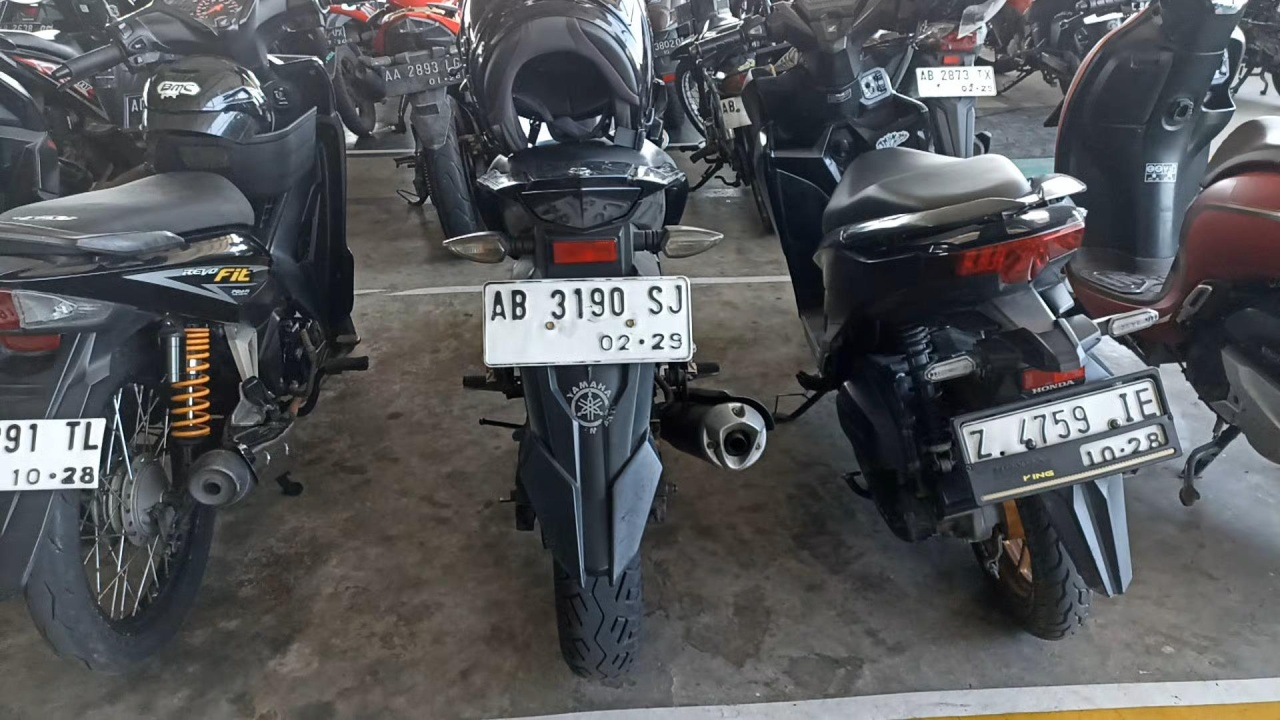plate: (958, 372, 1179, 503), (485, 276, 693, 367), (916, 65, 998, 98)
